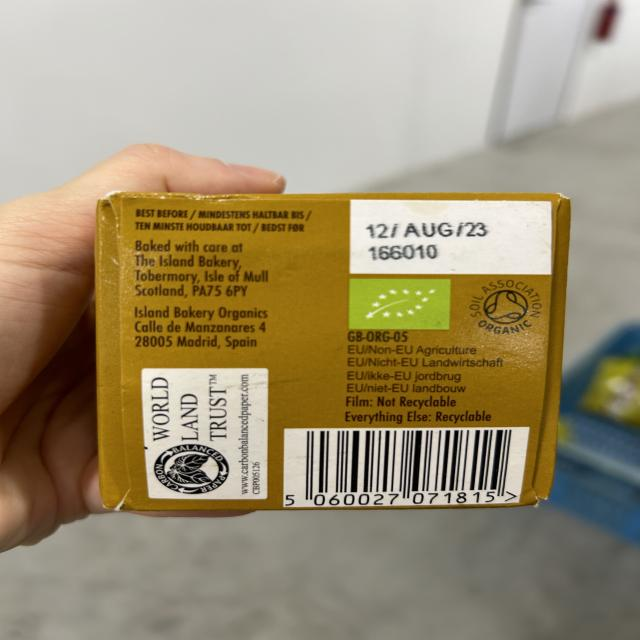object_name: (109, 198, 533, 508)
